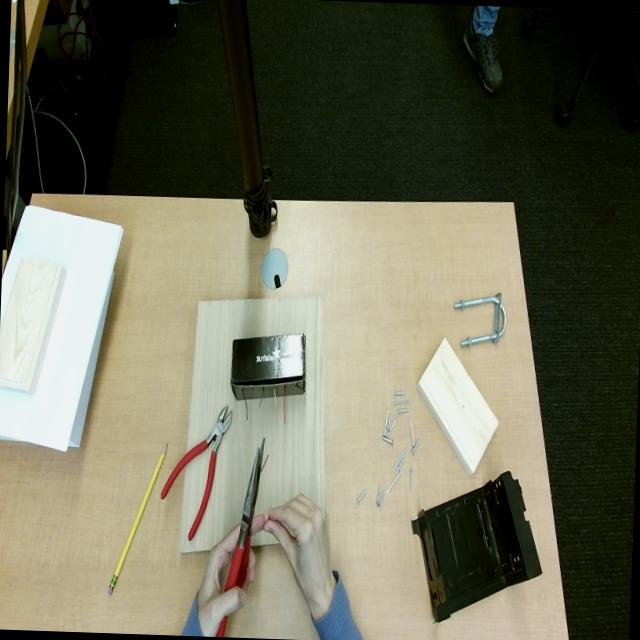pliers: (161, 407, 232, 540), (224, 439, 265, 590), (216, 615, 227, 637)
